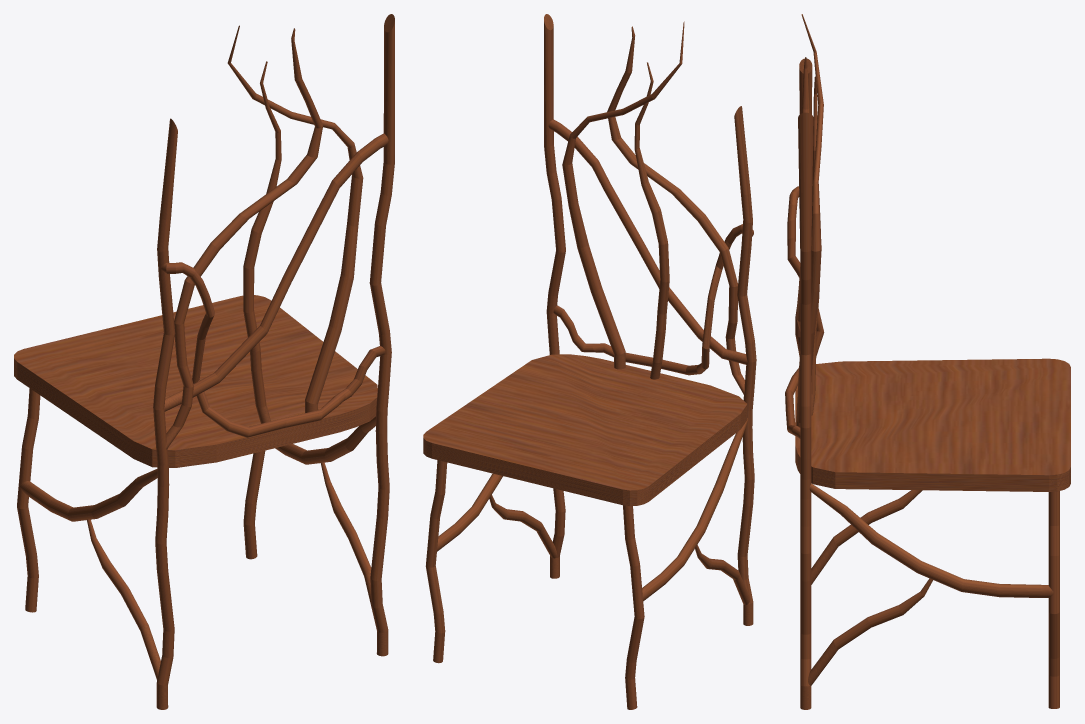
File: Chair.fbx
The picture shows the model from 3 angles, left to right: view 1: azimuth 30°, elevation 25°; view 2: azimuth 150°, elevation 25°; view 3: azimuth 270°, elevation 25°; orthographic projection. The views are drawn at different scales.
Visible parts, largest first — view 1: Cube, Cylinder, Cylinder.001, Cylinder.010, Cylinder.014, Cylinder.012, Cylinder.013, Cylinder.011, Cylinder.005, Cylinder.006, Cylinder.009, Cylinder.007 (+2 smaller); view 2: Cube, Cylinder.001, Cylinder, Cylinder.014, Cylinder.010, Cylinder.012, Cylinder.011, Cylinder.013, Cylinder.005, Cylinder.004, Cylinder.006, Cylinder.007 (+2 smaller); view 3: Cube, Cylinder, Cylinder.007, Cylinder.004, Cylinder.014, Cylinder.008, Cylinder.013, Cylinder.009, Cylinder.011, Cylinder.010, Cylinder.001.
Boxes of the visible parts, x1,y1,x2,y2 form: Cube: [14, 295, 377, 467]; Cylinder: [369, 14, 394, 656]; Cylinder.001: [153, 118, 177, 709]; Cylinder.010: [165, 28, 323, 449]; Cylinder.014: [227, 25, 363, 412]; Cylinder.012: [164, 133, 388, 411]; Cylinder.013: [161, 262, 385, 437]; Cylinder.011: [243, 61, 281, 423]; Cylinder.005: [17, 388, 40, 612]; Cylinder.006: [20, 468, 157, 521]; Cylinder.009: [87, 519, 160, 680]; Cylinder.007: [275, 416, 375, 464]; Cube: [423, 354, 747, 506]; Cylinder.001: [734, 106, 756, 625]; Cylinder: [544, 14, 565, 578]; Cylinder.014: [562, 21, 684, 369]; Cylinder.010: [607, 26, 744, 394]; Cylinder.012: [548, 119, 747, 364]; Cylinder.011: [634, 62, 669, 379]; Cylinder.013: [553, 224, 753, 375]; Cylinder.005: [623, 505, 644, 709]; Cylinder.004: [425, 460, 447, 663]; Cylinder.006: [642, 418, 748, 600]; Cylinder.007: [436, 473, 502, 551]; Cube: [795, 358, 1070, 491]; Cylinder: [798, 112, 813, 709]; Cylinder.007: [809, 483, 1053, 597]; Cylinder.004: [1048, 491, 1059, 708]; Cylinder.014: [796, 14, 823, 427]; Cylinder.008: [808, 578, 932, 685]; Cylinder.013: [785, 186, 824, 438]; Cylinder.009: [811, 490, 922, 584]; Cylinder.011: [811, 76, 820, 415]; Cylinder.010: [795, 57, 809, 356]; Cylinder.001: [799, 58, 812, 114].
Bounding box in the file's own units: 0.5 × 1.25 × 0.5186.
